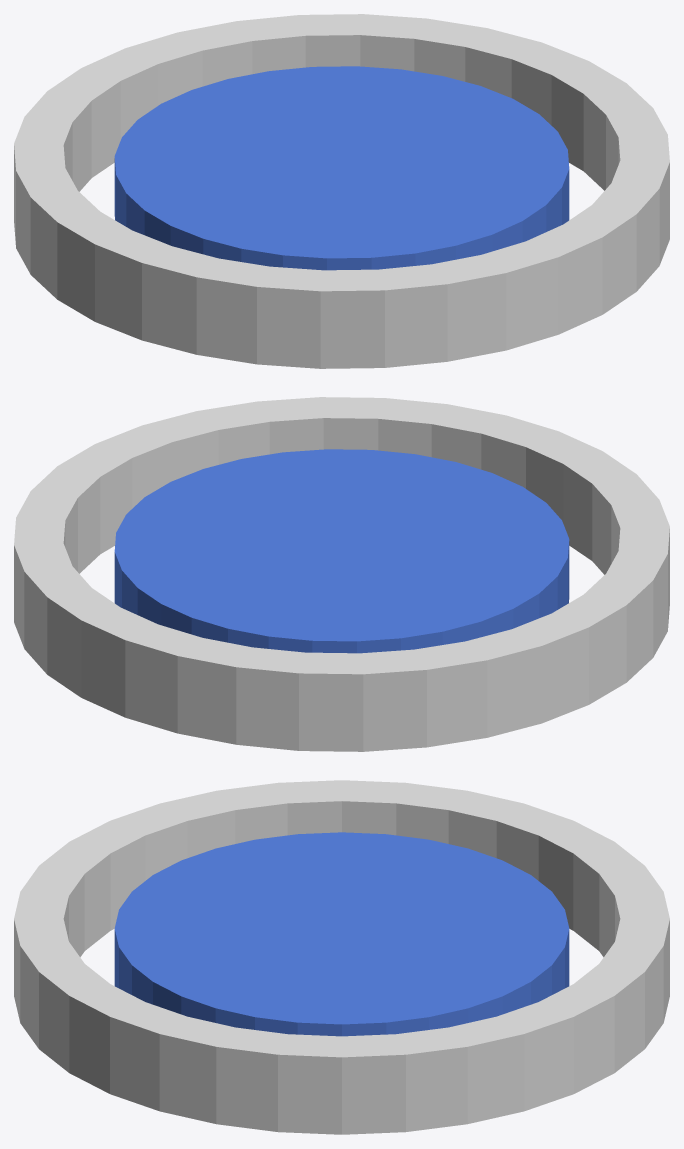
File: Player.gltf
3 views of the same model, one above another, from view 1: azimuth 30°, elevation 25°; view 2: azimuth 150°, elevation 25°; view 3: azimuth 270°, elevation 25° (orthographic).
Visible parts, largest first — view 1: Circle; view 2: Circle; view 3: Circle.
Part boxes in pixels (x1,y1,x2,y2): Circle: (14, 14, 669, 368); Circle: (14, 397, 669, 751); Circle: (14, 780, 669, 1134).
Bounding box in the file's own units: 1.6 × 0.2081 × 1.6.
